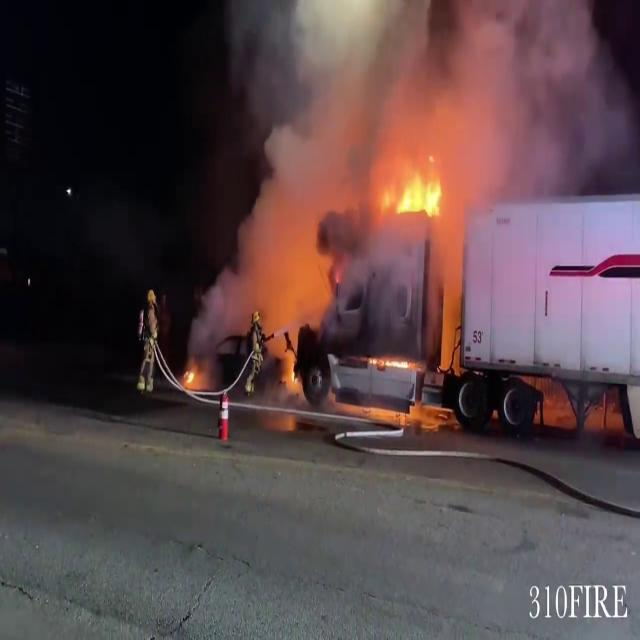Fire: (378, 155, 446, 231)
Smoke: (199, 0, 635, 306)
